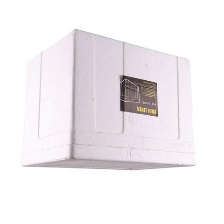foam_box: (16, 24, 203, 179)
